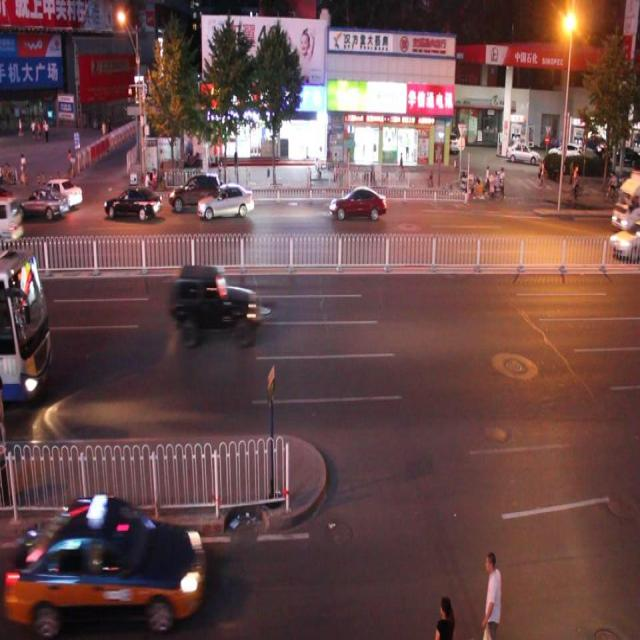bus: (608, 172, 640, 231)
car: (1, 494, 201, 632), (170, 259, 261, 345), (169, 170, 224, 212), (326, 183, 387, 220), (103, 184, 162, 221), (196, 183, 253, 220), (18, 184, 69, 223), (38, 178, 84, 207), (607, 220, 640, 258)
truck: (1, 193, 24, 243)
van: (1, 248, 53, 399)
